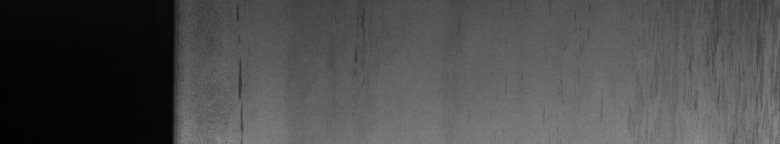ka: (689, 40, 768, 70)
